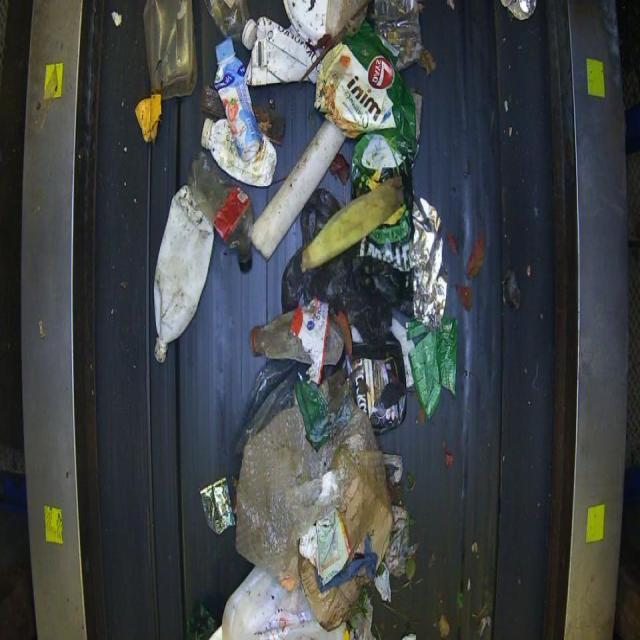other-trash: (145, 1, 452, 638)
trashbin: (6, 0, 634, 639)
